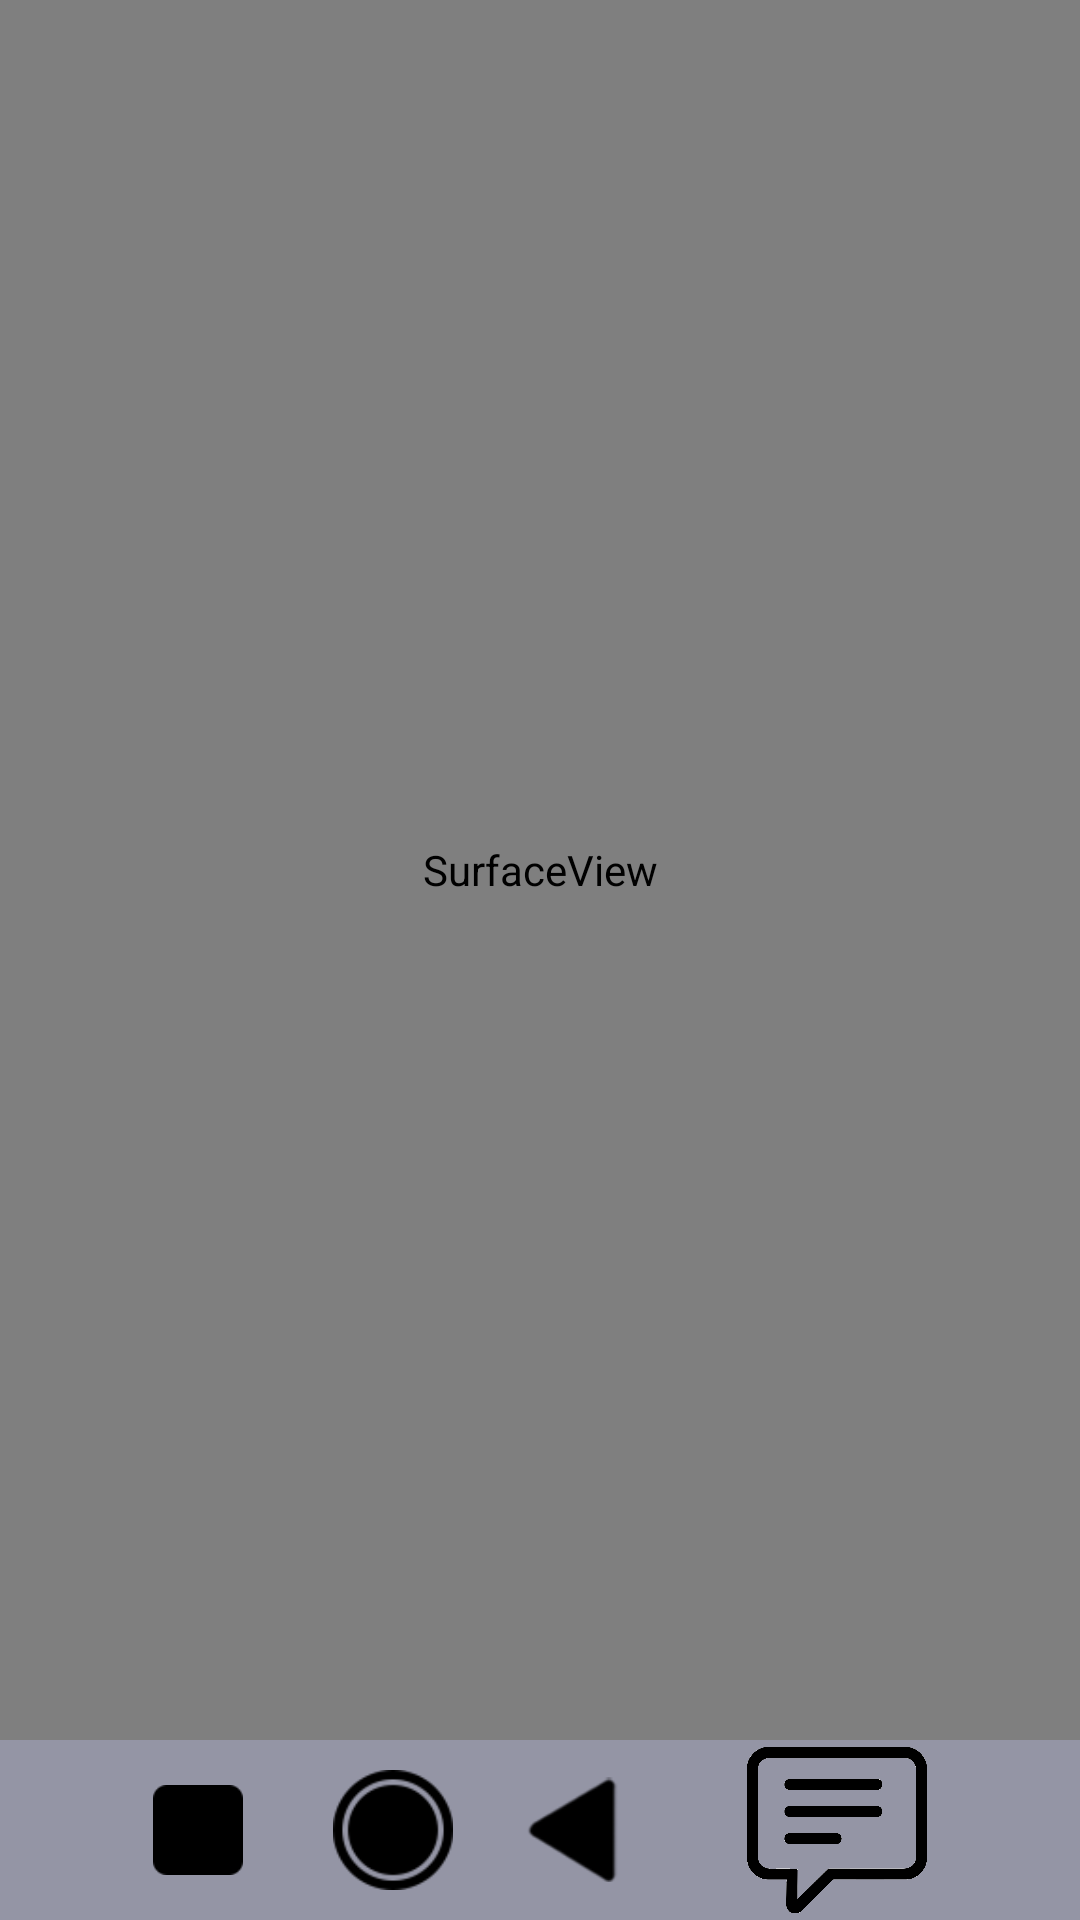

Locate icon controls on the screen. Image size 1080 × 1920, boxes as (x1,y1,x2,y2).
circle: (333,1770,453,1890)
mess: (747,1747,927,1913)
treangl: (528,1777,616,1882)
